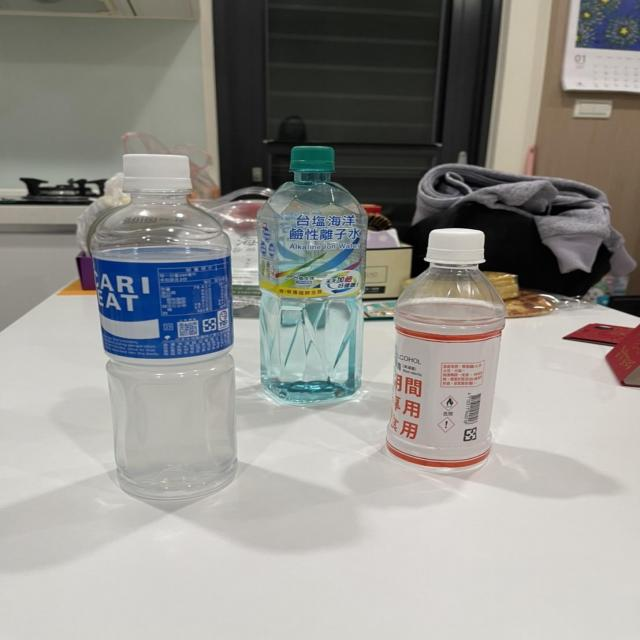bottle: (84, 145, 245, 496), (388, 221, 515, 497), (256, 150, 372, 427)
